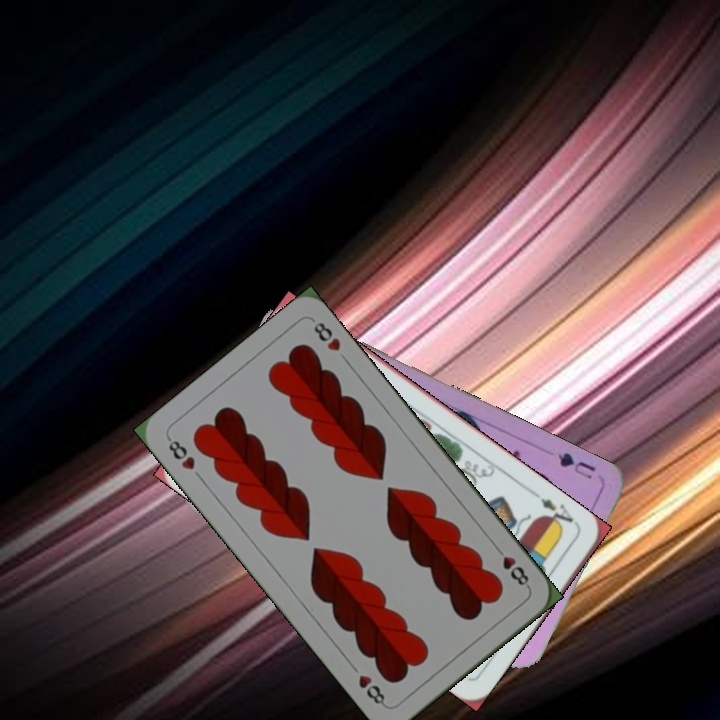EA: (536, 493, 581, 533)
GU: (553, 448, 599, 482)
H8: (490, 541, 533, 591), (163, 433, 198, 473)
